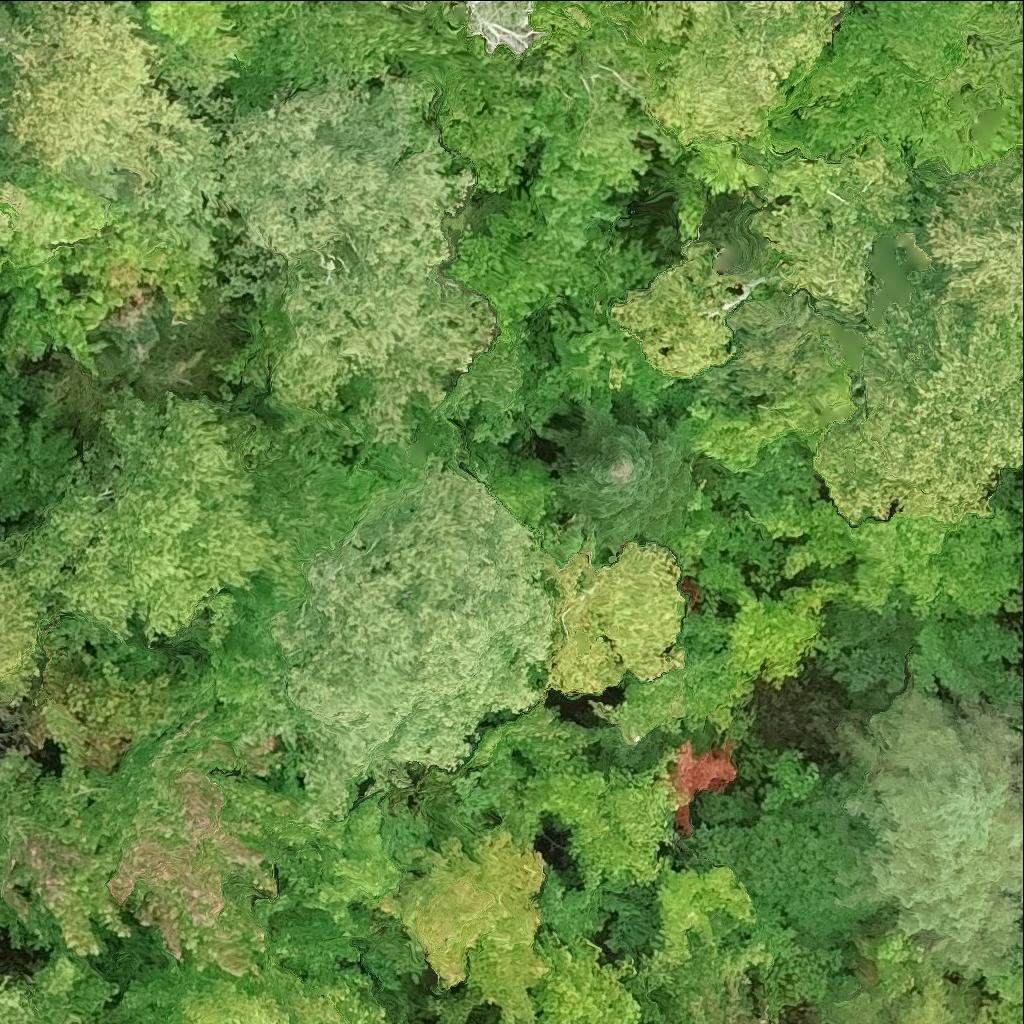crown: (249, 459, 553, 826), (0, 392, 303, 646), (0, 703, 280, 973), (219, 84, 473, 359), (838, 682, 1023, 978), (743, 0, 1023, 170), (0, 144, 200, 371), (812, 327, 1023, 525), (0, 0, 211, 172), (379, 827, 548, 1023), (642, 0, 848, 144), (529, 25, 684, 190), (539, 540, 686, 699), (540, 414, 691, 552), (223, 277, 359, 425), (686, 369, 861, 475), (927, 151, 1023, 340), (533, 306, 676, 422), (245, 0, 412, 94), (709, 430, 823, 538), (115, 970, 282, 1023), (0, 952, 109, 1023), (528, 169, 619, 251), (0, 564, 51, 703), (461, 0, 540, 53), (899, 980, 991, 1023), (990, 783, 1023, 897), (651, 0, 710, 50), (0, 186, 50, 240), (836, 994, 886, 1023), (500, 1020, 509, 1023), (1020, 721, 1023, 730)
